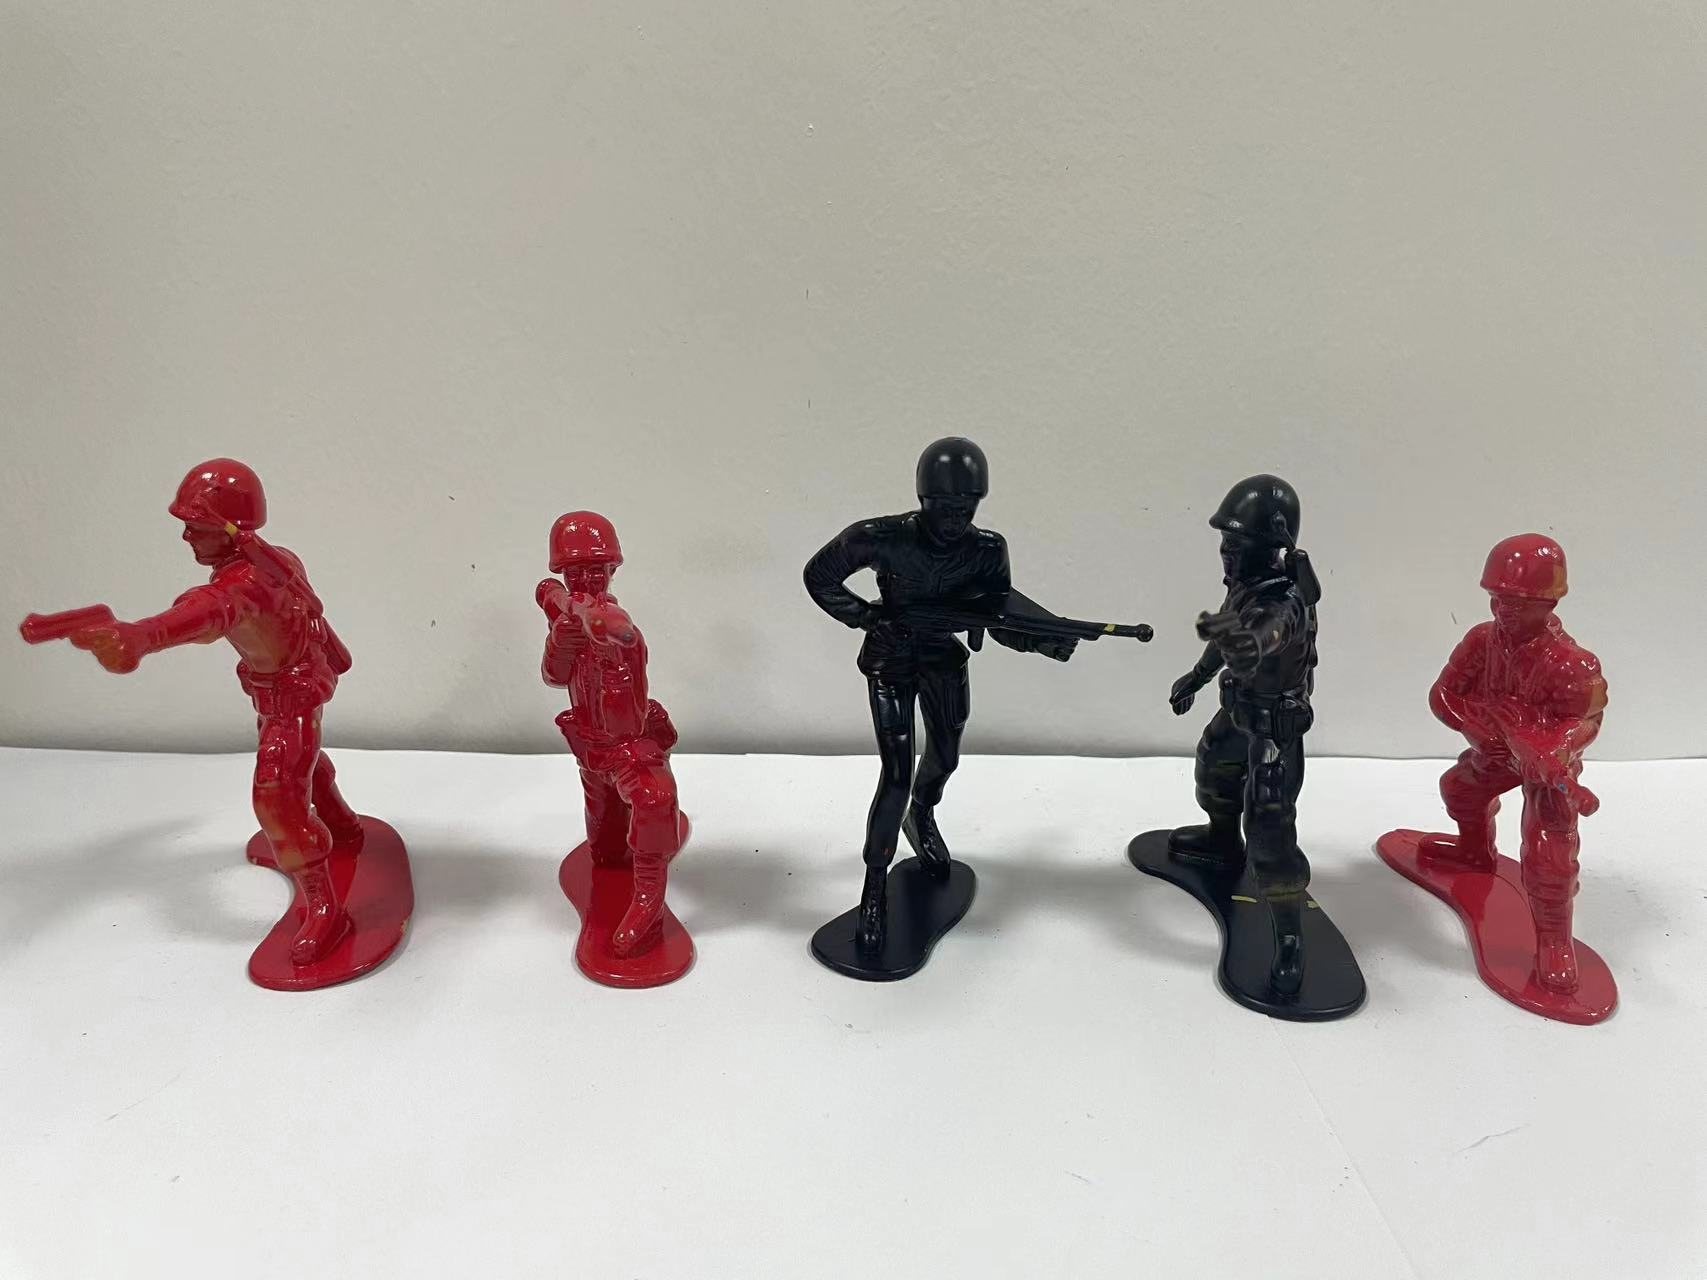black: (766, 360, 1159, 1011), (1108, 428, 1392, 1072)
red: (19, 428, 469, 1065), (1359, 510, 1665, 1094), (472, 467, 754, 1041)
